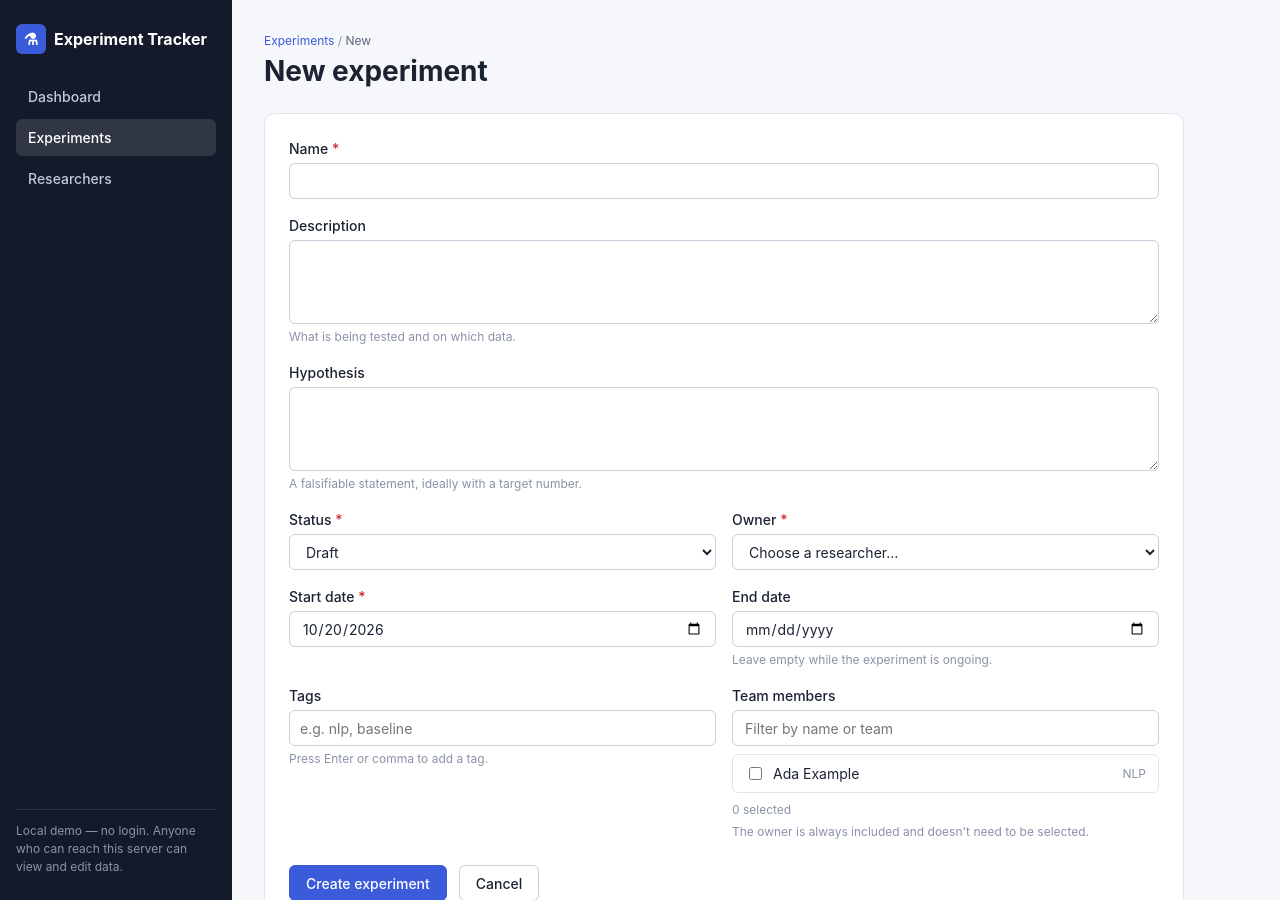
New experiment form › shows server-side validation errors next to the field
Step 1. Type "Duplicate" into the field labelled "Name *" → (724, 181), box [289,163,1159,199]
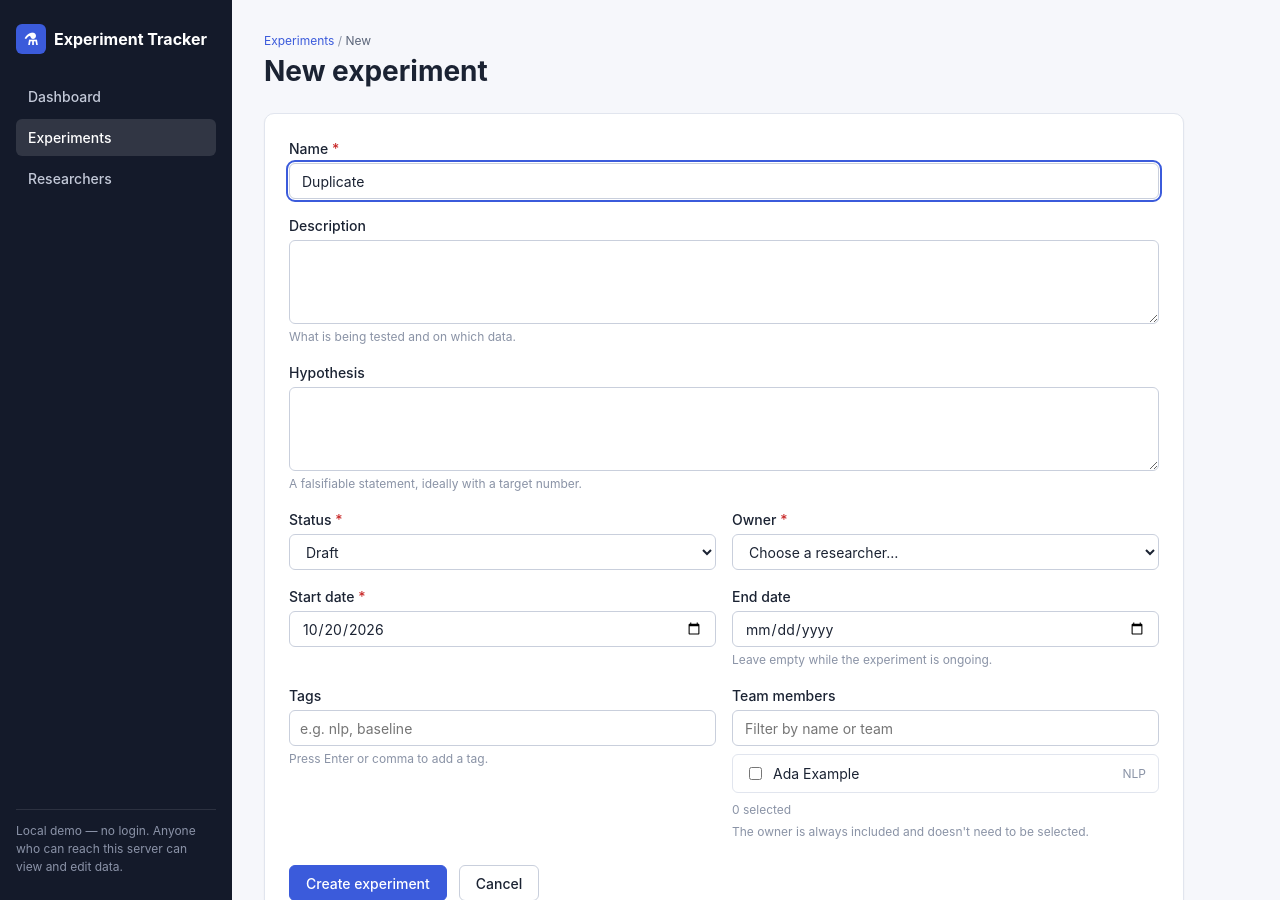
Step 2. Select "Ada Example — NLP" in the dropdown labelled "Owner *" → (946, 552), box [732,534,1159,570]
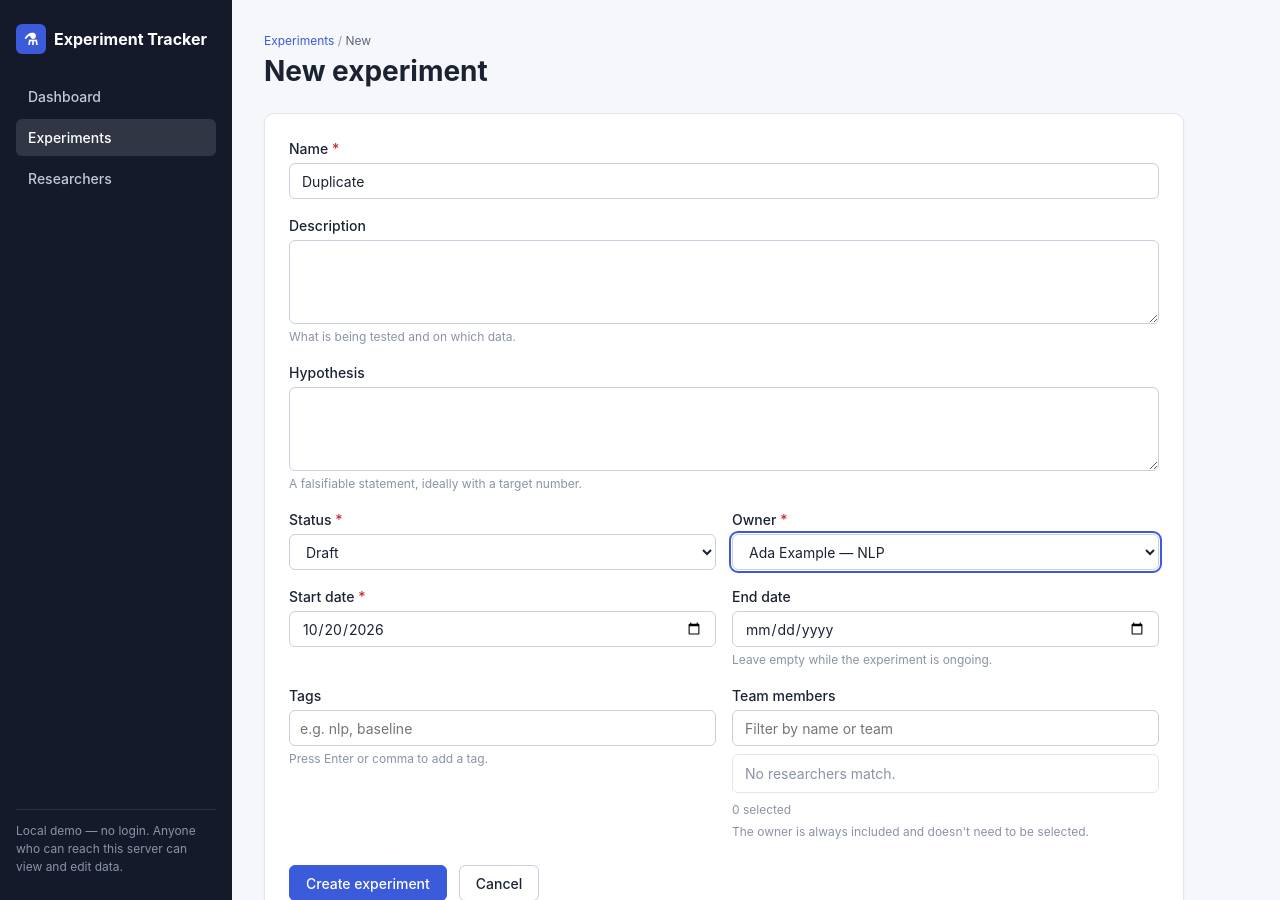
Step 3. Click the button "Create experiment" → (368, 883), box [289,865,447,899]
(page scrolled)
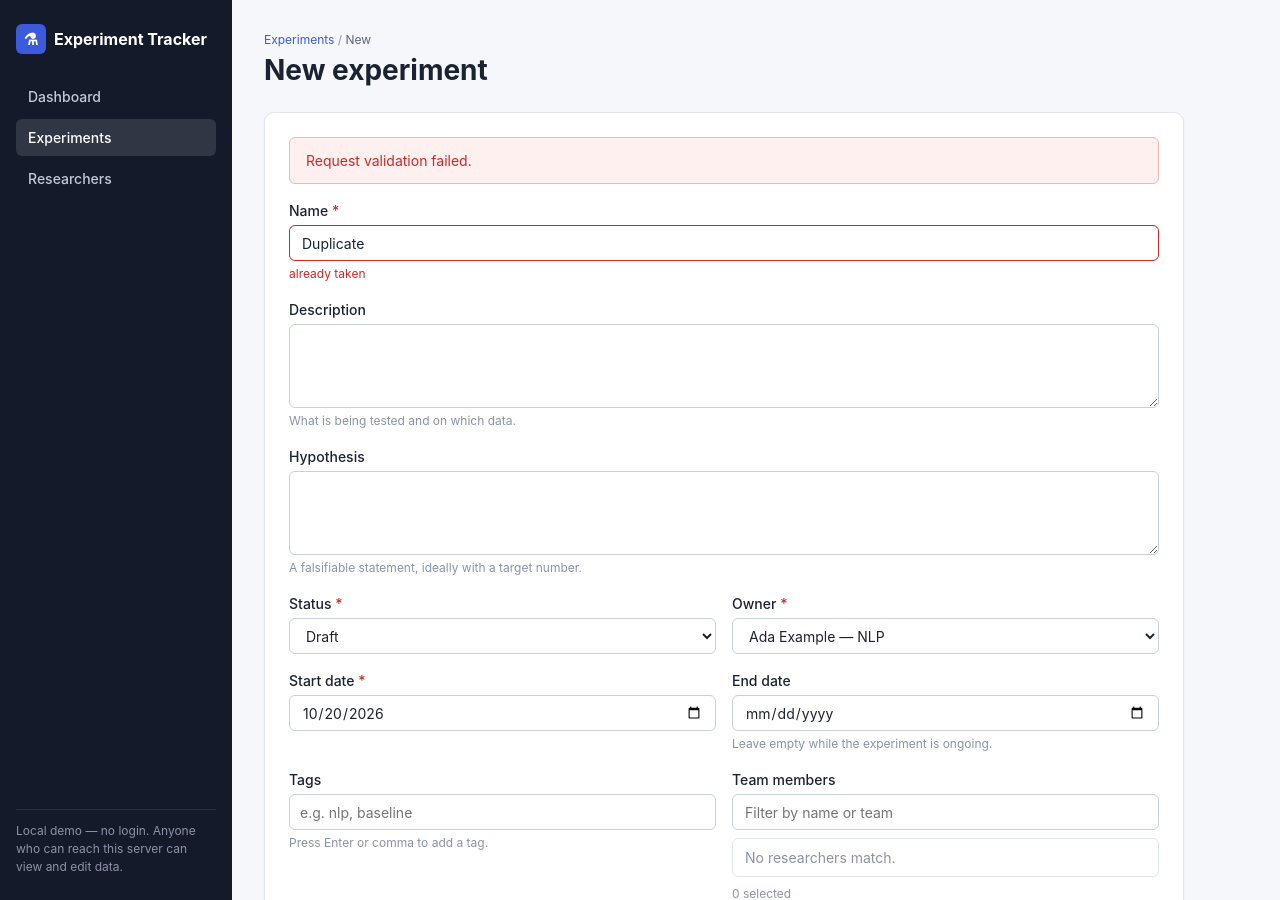
Expected: the text "already taken" is shown, [289,266,366,281]
Expected: the message reads "Request validation failed.", [306,152,472,169]
